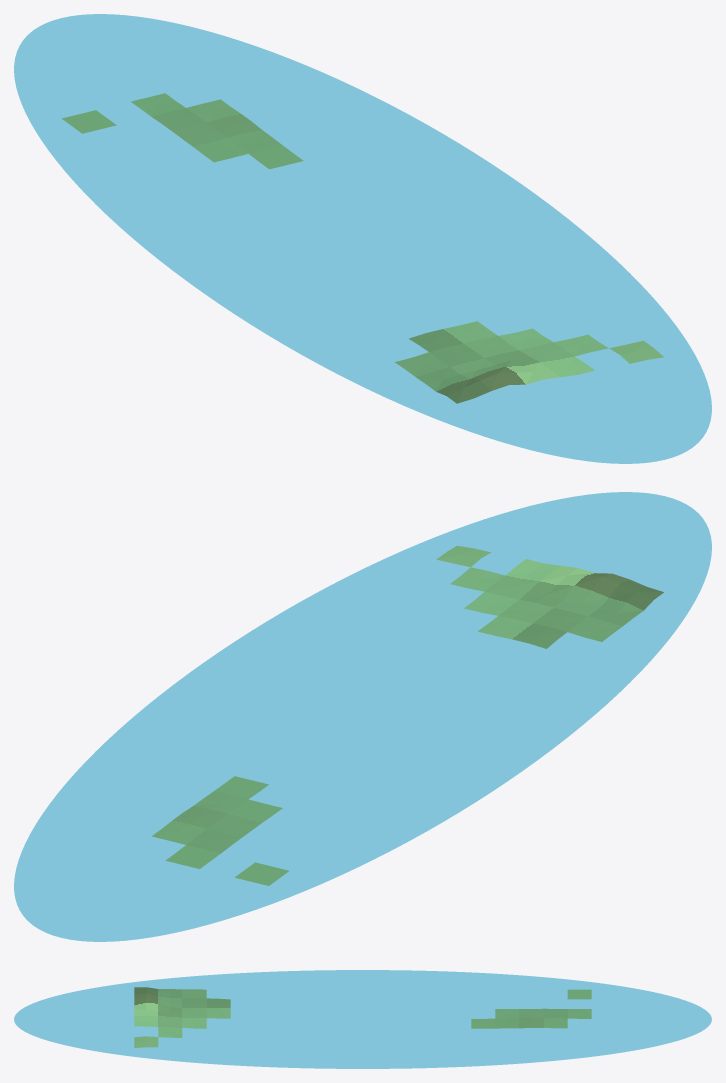
The model's file is ATG-terrain.glb.
The picture shows the model from 3 angles, top to bottom: view 1: azimuth 30°, elevation 25°; view 2: azimuth 150°, elevation 25°; view 3: azimuth 270°, elevation 25°; orthographic projection. The views are drawn at different scales.
Visible parts, largest first — view 1: Relevo com hidrografia; view 2: Relevo com hidrografia; view 3: Relevo com hidrografia.
Part boxes in pixels (x1,y1,x2,y2): Relevo com hidrografia: [14, 14, 711, 463]; Relevo com hidrografia: [14, 492, 711, 941]; Relevo com hidrografia: [14, 970, 711, 1068].
Size of the model in its own units: 0.7518 by 0.0323 by 2.24.
Materials: 2 (1 with a texture image).
